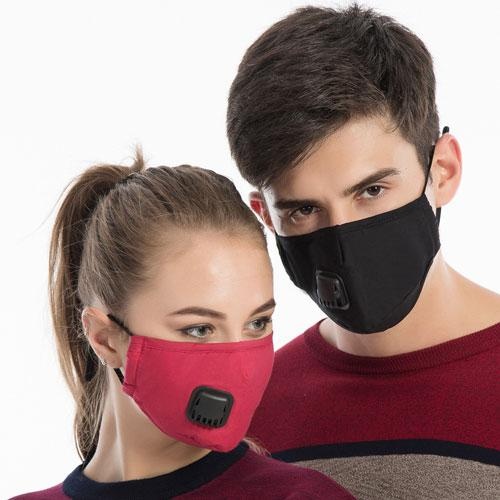Wearing Mask: (206, 18, 500, 330), (35, 135, 278, 500)
